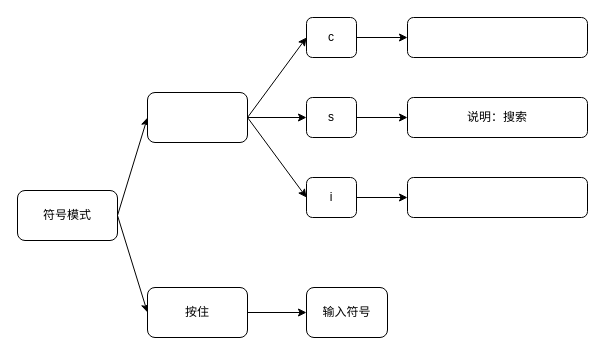
The diagram is 605 pixels wide and 355 high, and some of its shapes have lost their labels. The shapes that lost their labels are listed below. From the top down, each one's centre as x and y in pixels, then its label:
At pixel 497 37: "说明：命令行之类的指令".
At pixel 197 117: "单按".
At pixel 497 197: "说明：信息".
